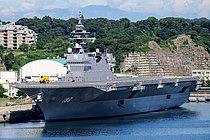MIL_Ship: (8, 13, 197, 123)
